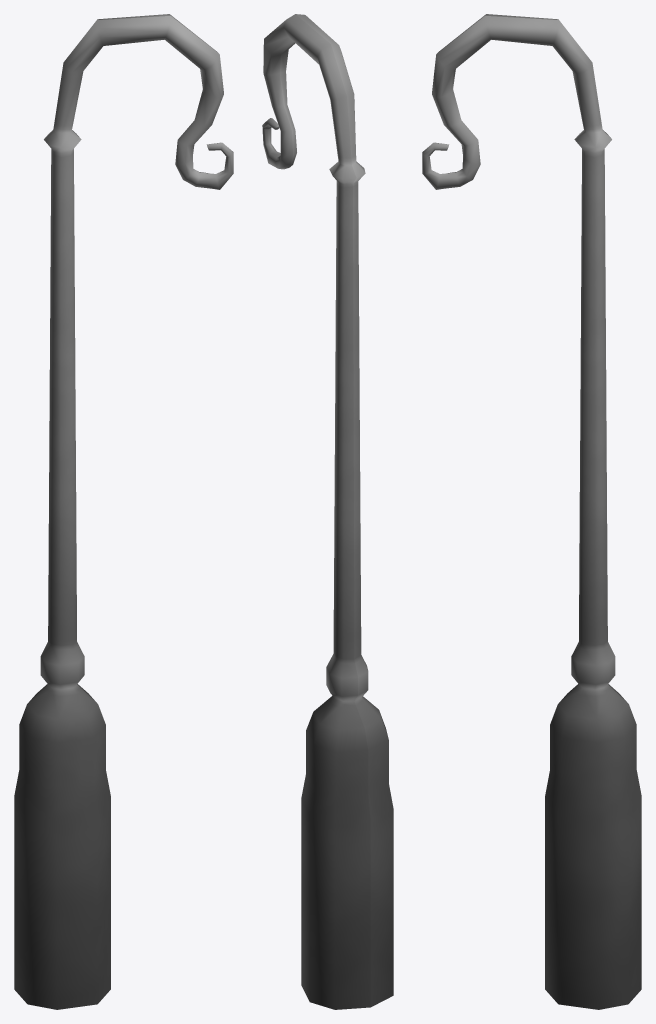
The model's file is lamppost.obj.
3 renders of one model, left to right at view 1: azimuth 90°, elevation 25°; view 2: azimuth 210°, elevation 25°; view 3: azimuth 270°, elevation 25°, orthographic. The views are drawn at different scales.
Parts seen in each view (by area): view 1: Mesh2; view 2: Mesh2; view 3: Mesh2.
Boxes of the visible parts, x1,y1,x2,y2 form: Mesh2: (14,14,233,1009); Mesh2: (262,14,393,1009); Mesh2: (422,14,641,1009).
Size of the model in its own units: 0.0897 by 0.999 by 0.2039.
Materials: 1 (1 with a texture image).
